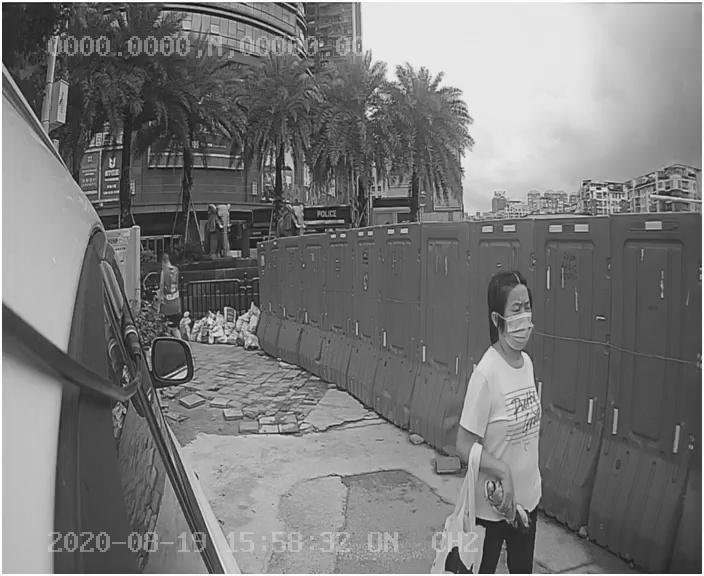person: (443, 266, 577, 541)
